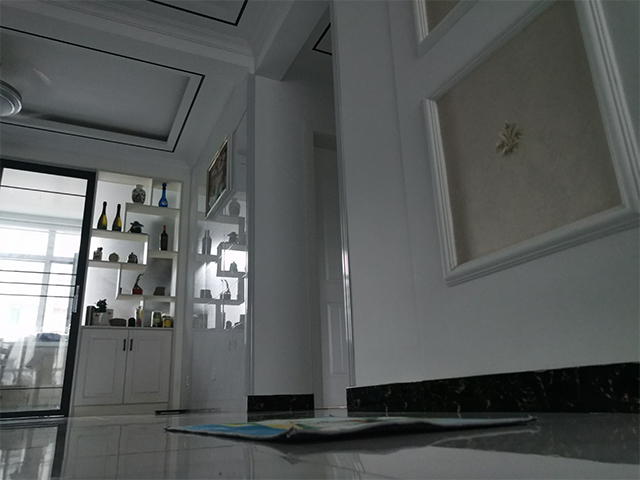cabinet: (74, 325, 175, 418)
carpet: (161, 414, 537, 445)
